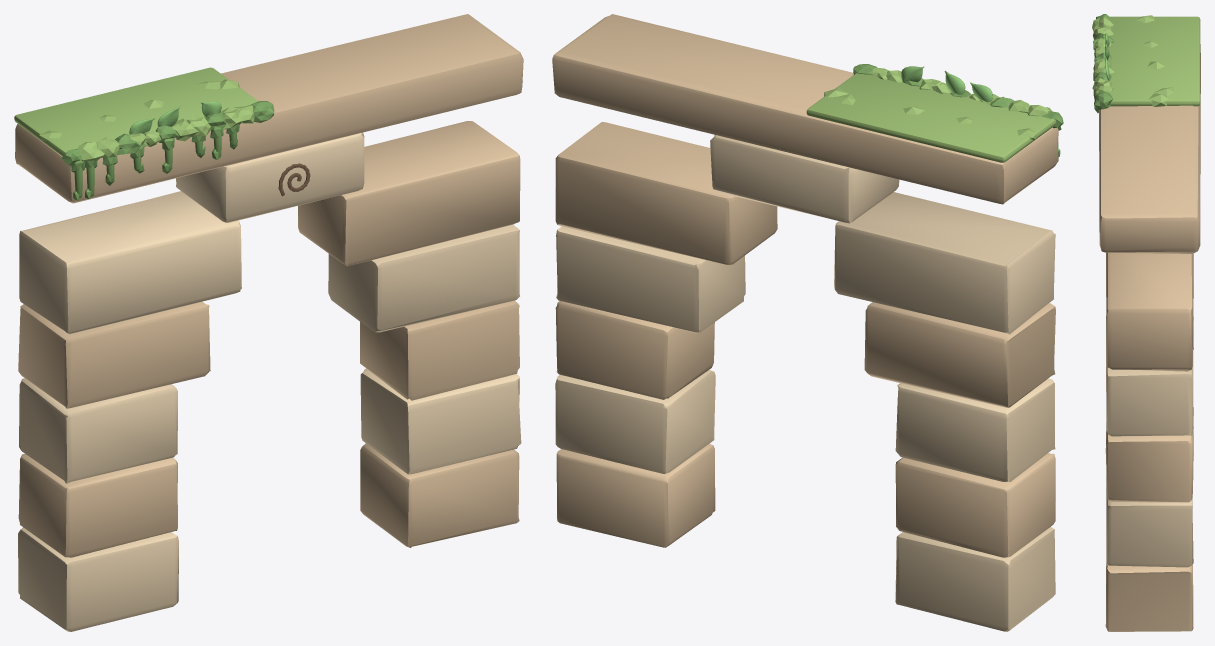
Rendered from bg_arch.glb.
3 renders of one model, left to right at view 1: azimuth 30°, elevation 25°; view 2: azimuth 150°, elevation 25°; view 3: azimuth 270°, elevation 25°, orthographic. The views are drawn at different scales.
Visible parts, largest first — view 1: bg_arch; view 2: bg_arch; view 3: bg_arch.
Boxes of the visible parts, x1,y1,x2,y2 form: bg_arch: (14,14,523,631); bg_arch: (552,14,1063,631); bg_arch: (1092,14,1200,631).
Bounding box in the file's own units: 3.24 × 3.37 × 0.7541.
